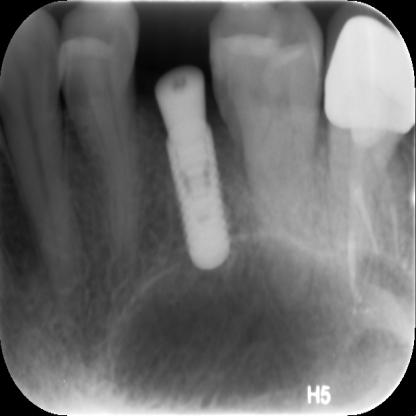ITI: (160, 124, 234, 271)
